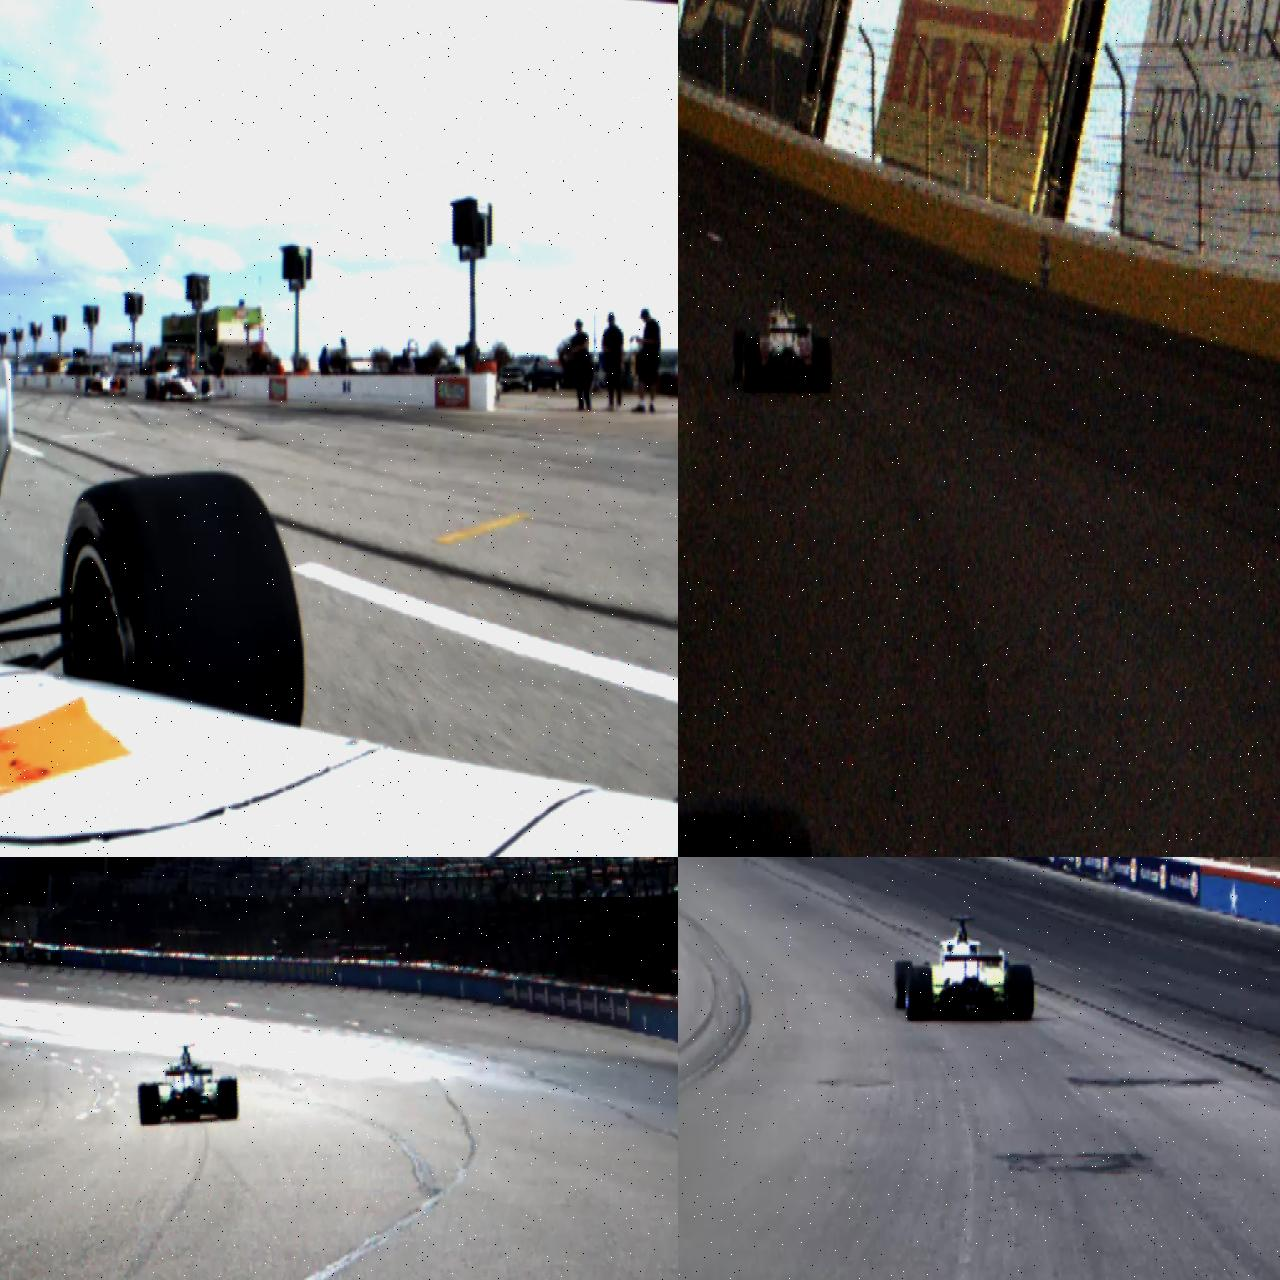AV: (894, 913, 1035, 1021), (734, 286, 832, 394), (138, 1043, 238, 1126), (145, 361, 216, 402), (86, 373, 127, 396)
Wheel: (60, 471, 304, 729), (1008, 964, 1034, 1021), (906, 966, 932, 1021), (742, 338, 762, 394), (812, 338, 831, 394), (138, 1083, 161, 1125), (894, 960, 912, 1010), (218, 1077, 238, 1119), (734, 328, 748, 381), (145, 380, 156, 399), (202, 379, 210, 401)
